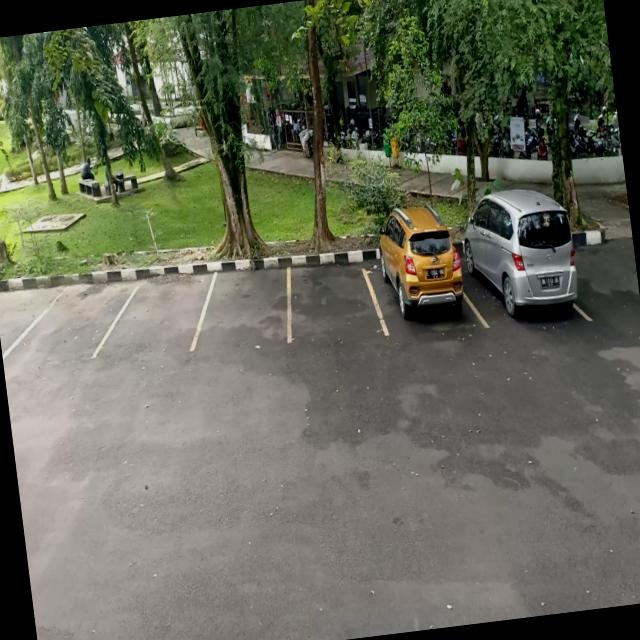car: (462, 198, 588, 332), (372, 220, 474, 340)
free: (104, 258, 211, 360), (196, 248, 298, 354), (283, 240, 384, 346), (23, 274, 122, 366), (0, 281, 35, 361)
